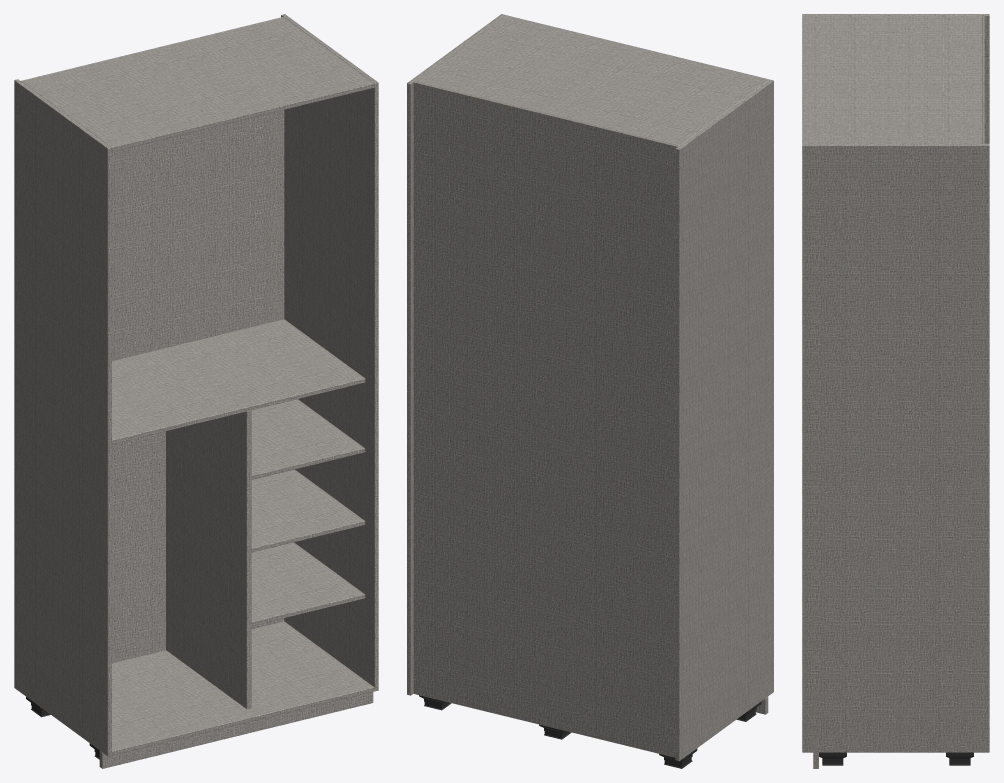
File: cbib12151.gltf
3 renders of one model, left to right at view 1: azimuth 30°, elevation 25°; view 2: azimuth 150°, elevation 25°; view 3: azimuth 270°, elevation 25°, orthographic.
Parts seen in each view (by area): view 1: CBIB12151; view 2: CBIB12151; view 3: CBIB12151.
Part boxes in pixels (x1,y1,x2,y2): CBIB12151: (14,14,378,768); CBIB12151: (407,14,773,768); CBIB12151: (802,14,989,768).
Size of the model in its own units: 1 by 2.2 by 0.6.
Materials: 3 (2 with a texture image).
